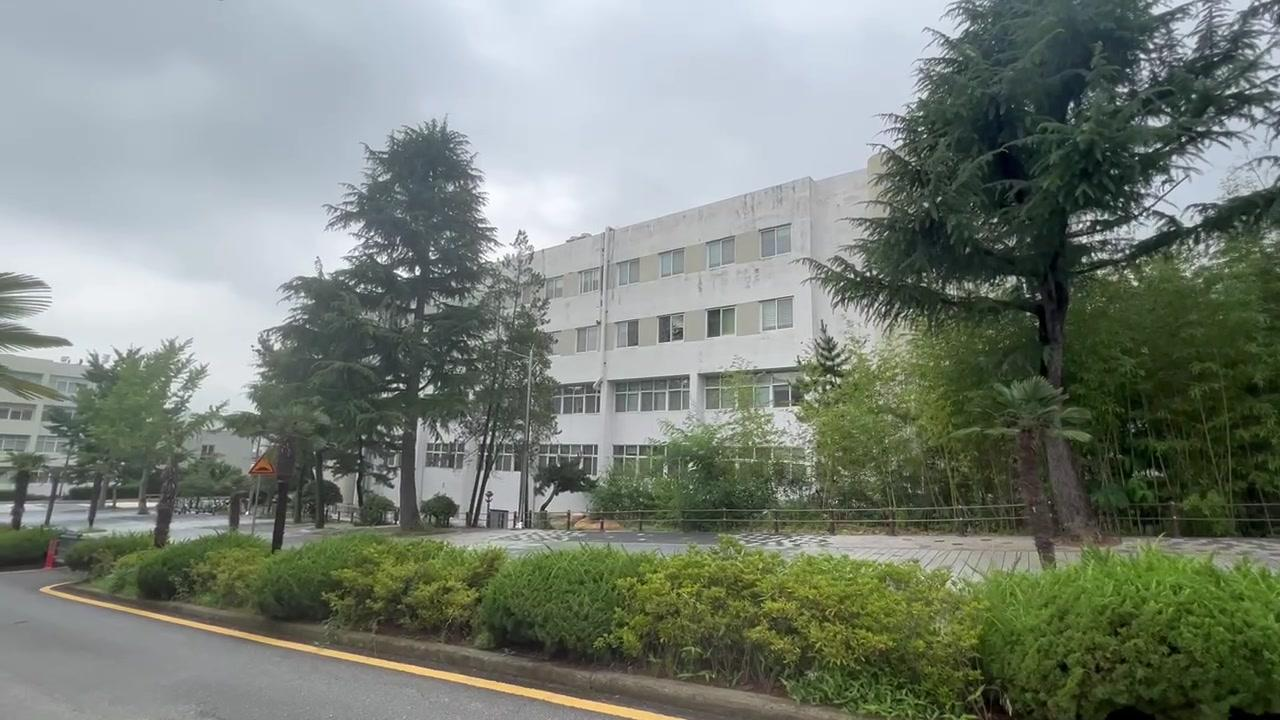building: (567, 212, 798, 429)
